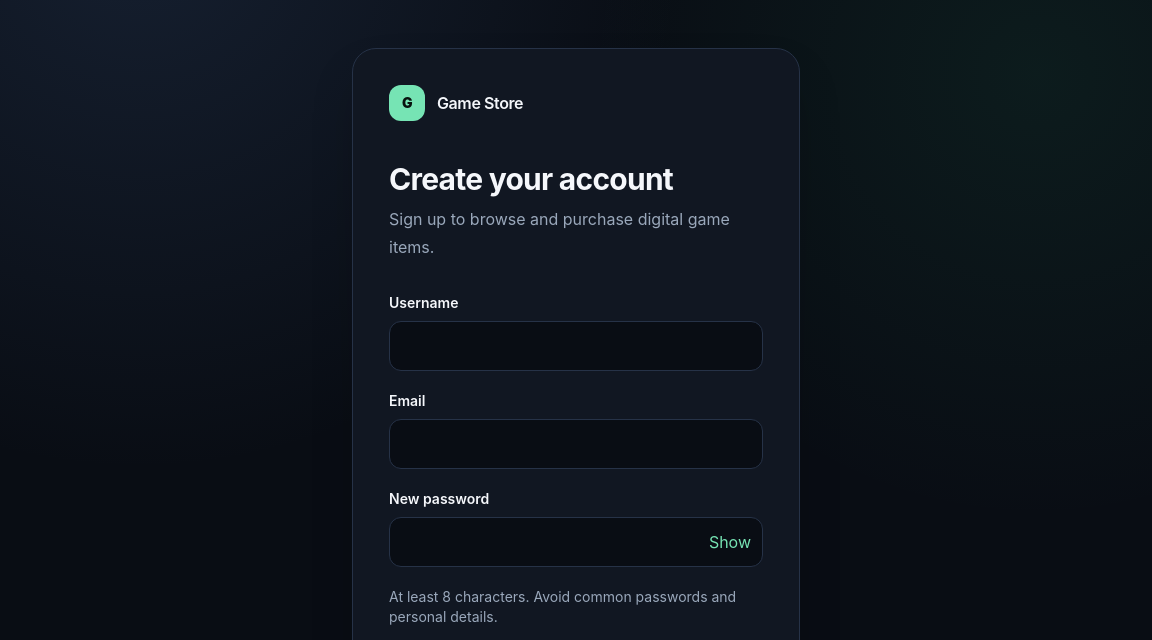
Test: shows server field errors accessibly
Step 1. Type "customer" into the field labelled "Username" → (576, 346), box [389, 321, 763, 371]
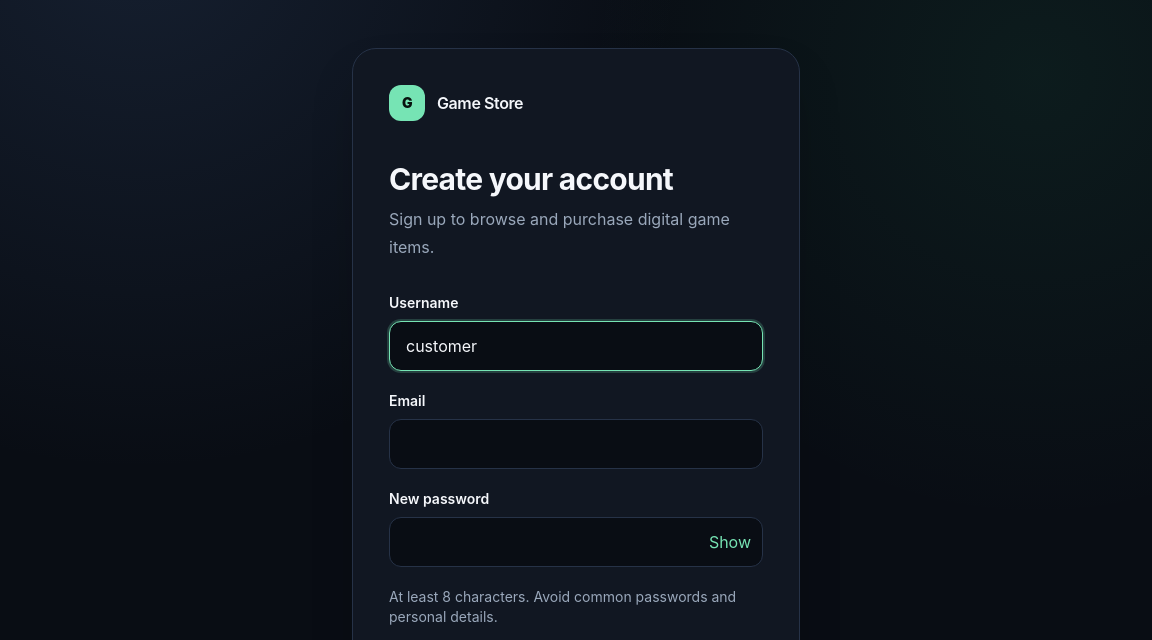
Step 2. Type "customer@example.com" into the field labelled "Email" → (576, 444), box [389, 419, 763, 469]
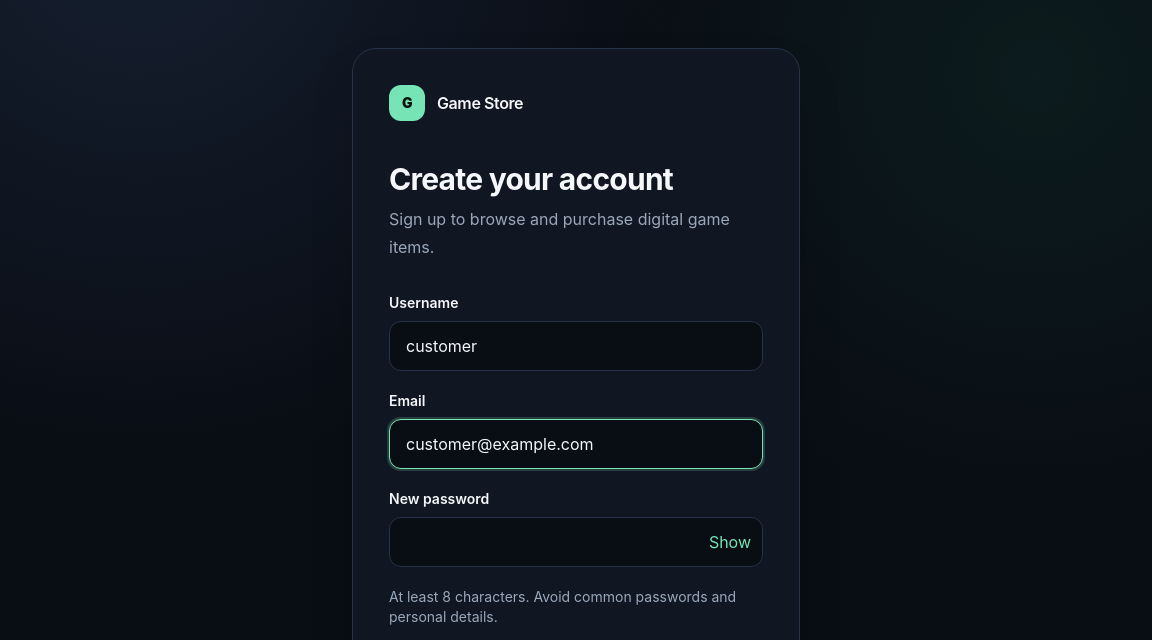
Step 3. Type "River!lantern-5839" into the password field labelled "New password" → (576, 542), box [389, 517, 763, 567]
(page scrolled)
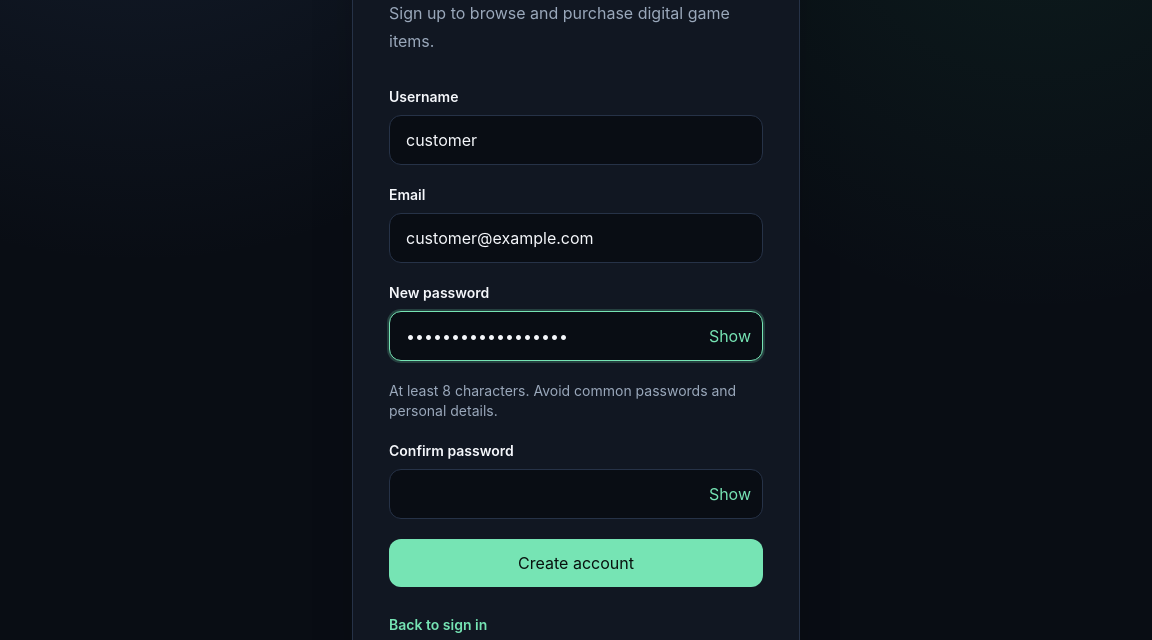
Step 4. Type "River!lantern-5839" into the password field labelled "Confirm password" → (576, 494), box [389, 469, 763, 519]
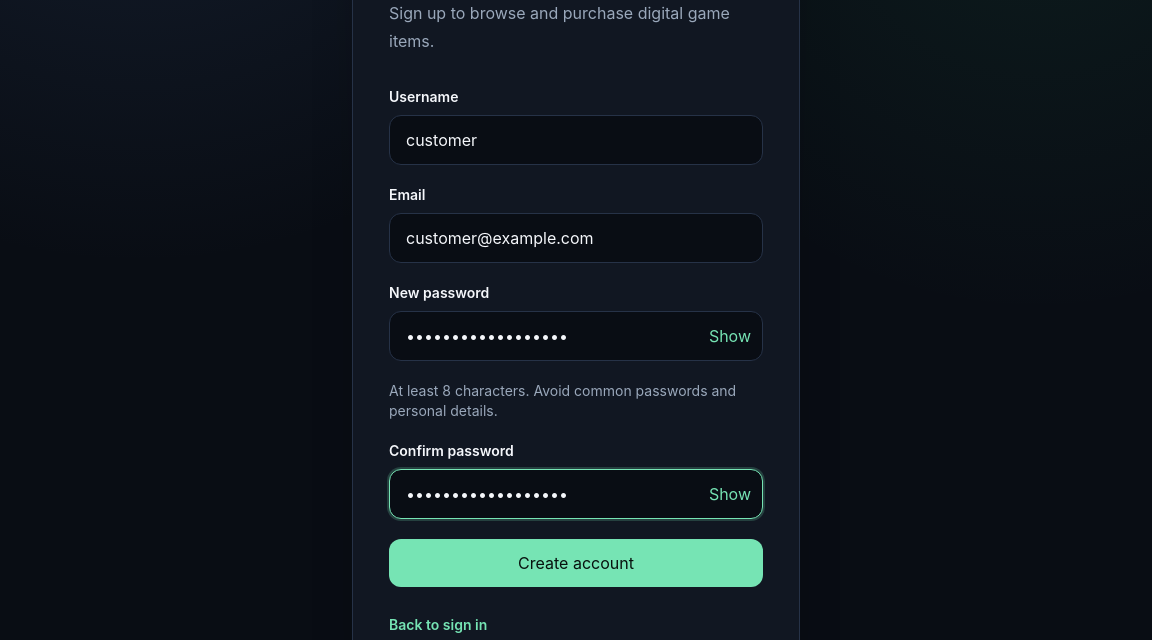
Step 5. Click the button "Create account" → (576, 563), box [389, 539, 763, 587]
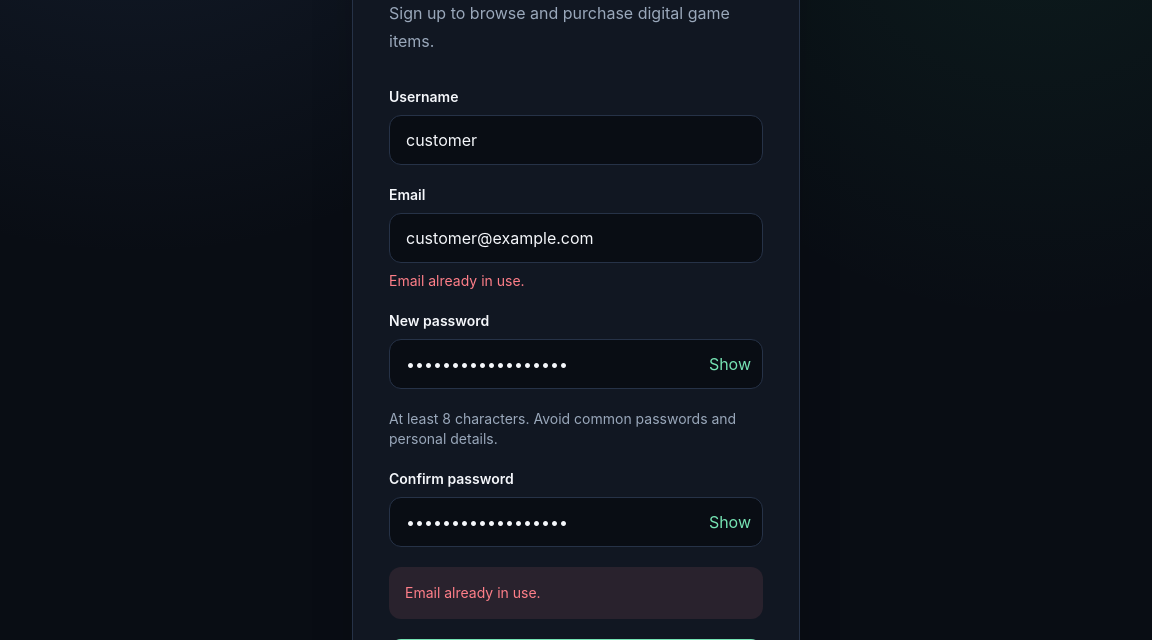
Expected: the message reads "Email already in use.", [405, 584, 541, 601]
